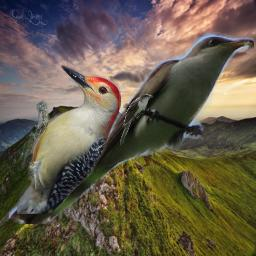Cuckoo: (9, 32, 254, 224), (118, 93, 154, 147)
Woodpecker: (17, 65, 121, 214)
